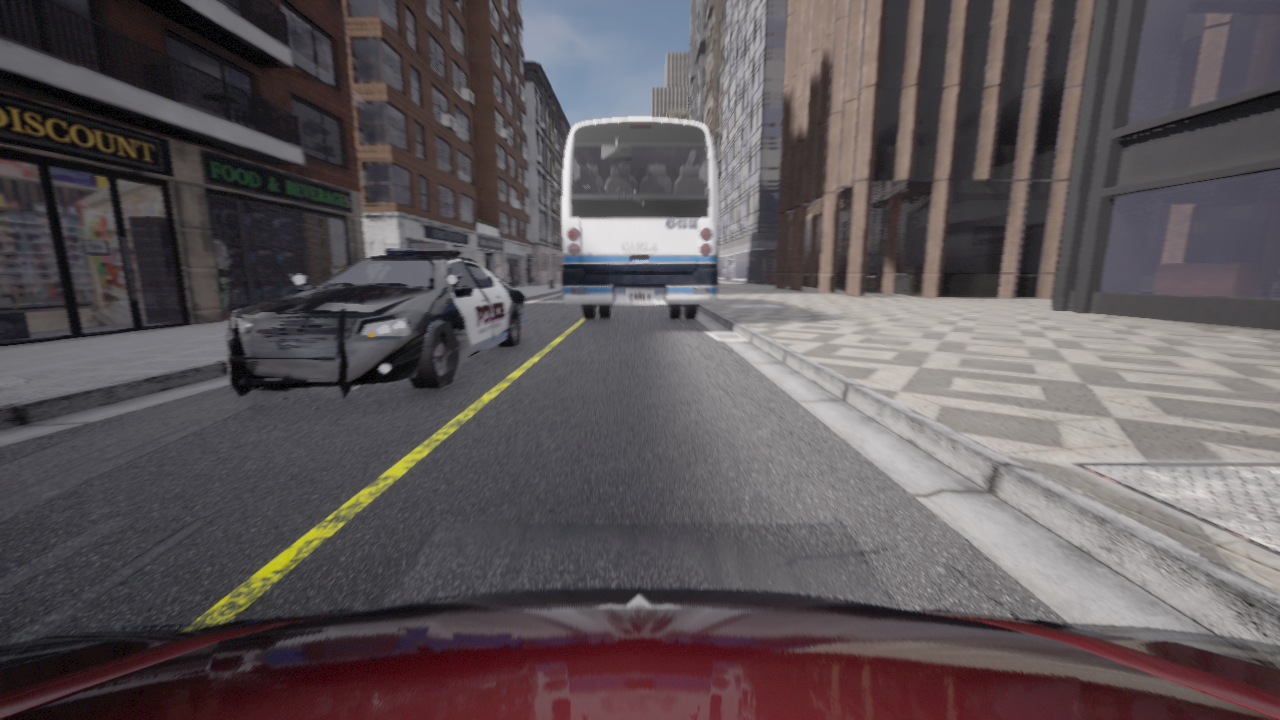cyclist: (0, 588, 1279, 719), (225, 249, 524, 399), (562, 117, 717, 319)
